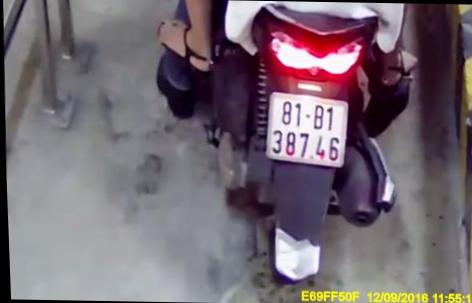LP: (259, 87, 352, 173)
